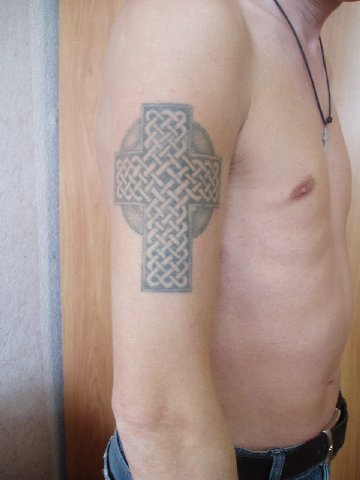tatu9_krest: (121, 86, 219, 303)
